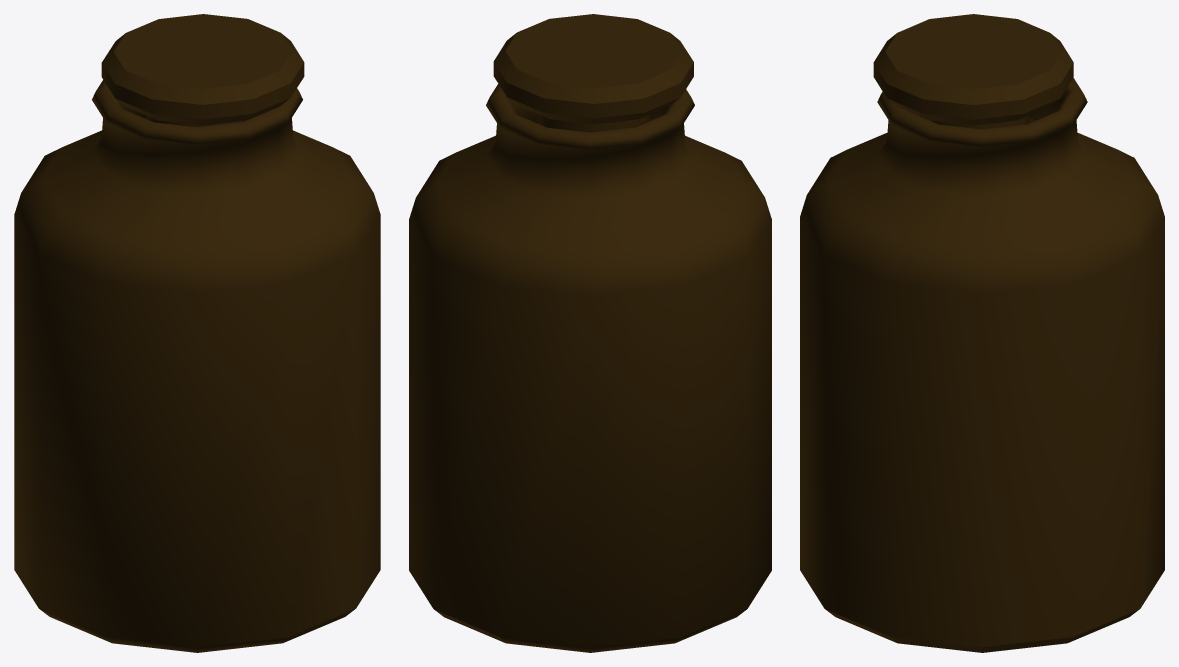
File: chemical_jar_C_60ml.FBX
3 renders of one model, left to right at view 1: azimuth 30°, elevation 25°; view 2: azimuth 150°, elevation 25°; view 3: azimuth 270°, elevation 25°, orthographic.
Parts seen in each view (by area): view 1: chemical_jar_C_60ml; view 2: chemical_jar_C_60ml; view 3: chemical_jar_C_60ml.
Boxes of the visible parts, x1=… form: chemical_jar_C_60ml: x1=14, y1=14, x2=380, y2=652; chemical_jar_C_60ml: x1=409, y1=14, x2=771, y2=652; chemical_jar_C_60ml: x1=800, y1=14, x2=1164, y2=652.
Size of the model in its own units: 4.76 by 7.63 by 4.76.
